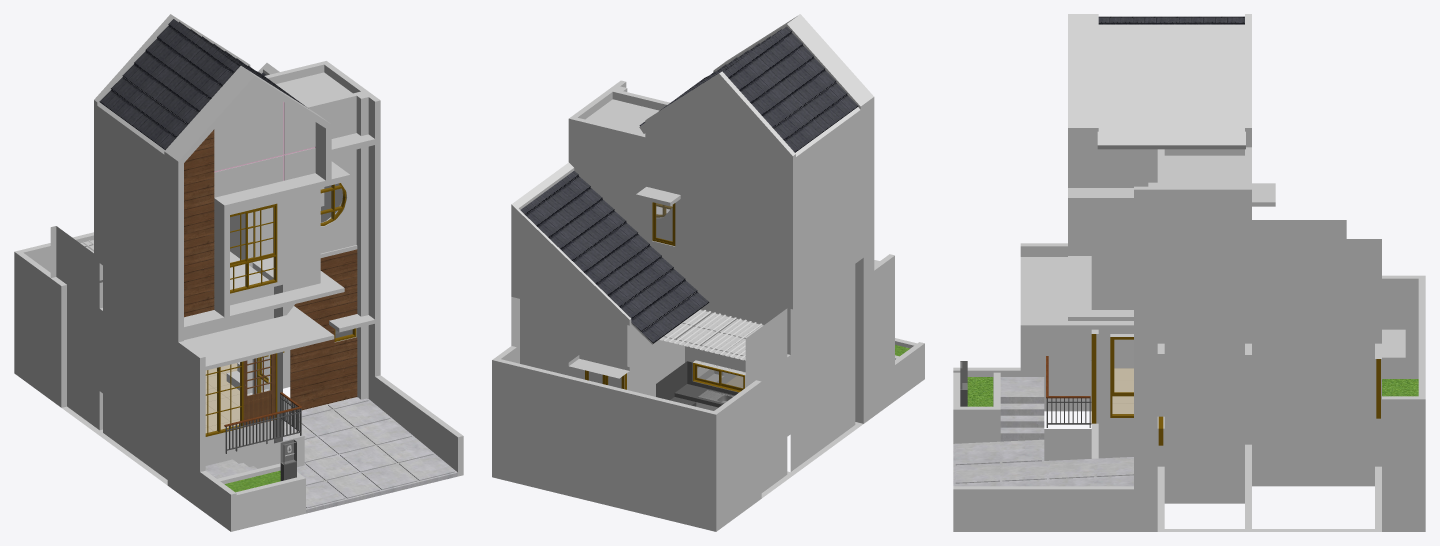
Rendered from himawari-49.glb.
3 renders of one model, left to right at view 1: azimuth 30°, elevation 25°; view 2: azimuth 150°, elevation 25°; view 3: azimuth 270°, elevation 25°, orthographic. The views are drawn at different scales.
Visible parts, largest first — view 1: ID4, ID100, ID295, ID499, ID273, ID13, ID352, ID1167, ID47; view 2: ID4, ID499, ID352, ID675, ID273; view 3: ID4, ID100, ID273, ID47, ID499, ID13, ID352.
Boxes of the visible parts, x1,y1,x2,y2 form: ID4: [14, 14, 463, 531]; ID100: [205, 397, 457, 513]; ID295: [184, 129, 357, 412]; ID499: [99, 19, 305, 149]; ID273: [205, 183, 356, 436]; ID13: [205, 363, 239, 433]; ID352: [225, 394, 301, 453]; ID1167: [243, 353, 275, 427]; ID47: [224, 470, 280, 492]; ID4: [492, 14, 924, 531]; ID499: [520, 26, 858, 343]; ID352: [656, 361, 738, 407]; ID675: [588, 203, 743, 388]; ID273: [585, 202, 744, 392]; ID4: [953, 14, 1425, 531]; ID100: [953, 377, 1133, 486]; ID273: [1091, 334, 1380, 445]; ID47: [967, 377, 1418, 406]; ID499: [1098, 16, 1244, 24]; ID13: [1112, 368, 1133, 413]; ID352: [1046, 398, 1091, 427].
Size of the model in its own units: 6.2 by 10.16 by 10.
Materials: 19 (10 with a texture image).
